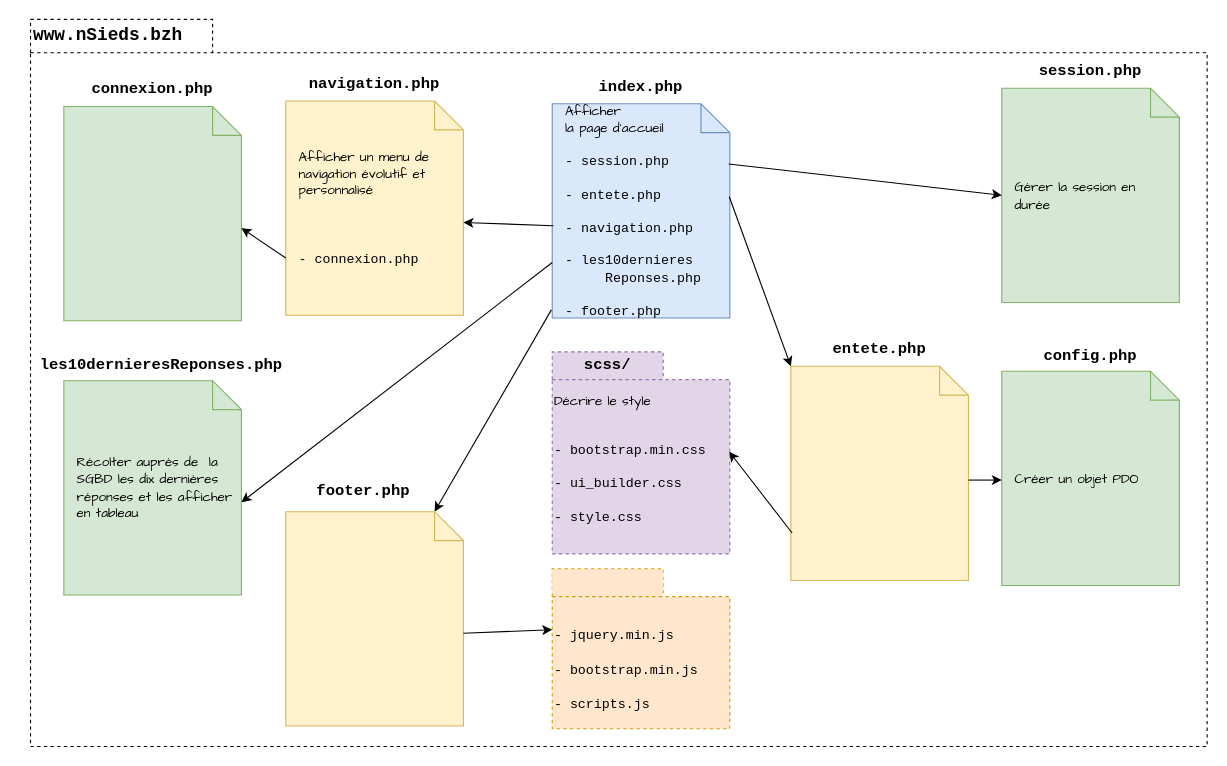
The diagram is 1227 pixels wide and 766 high, and some of its shapes have lost their labels. Each missing label, with the centre of its shape:
Afficher l'entête - config.php - style.css: point (879, 473)
Afficher le pied de page Déclarer les fichiers JavaScript à charger.: point (374, 618)
Gérer l'identification des utilisateurs du forum: point (152, 213)
js/: point (607, 580)
